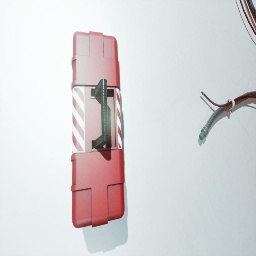FirstAidBox ,: (71, 31, 125, 228)
